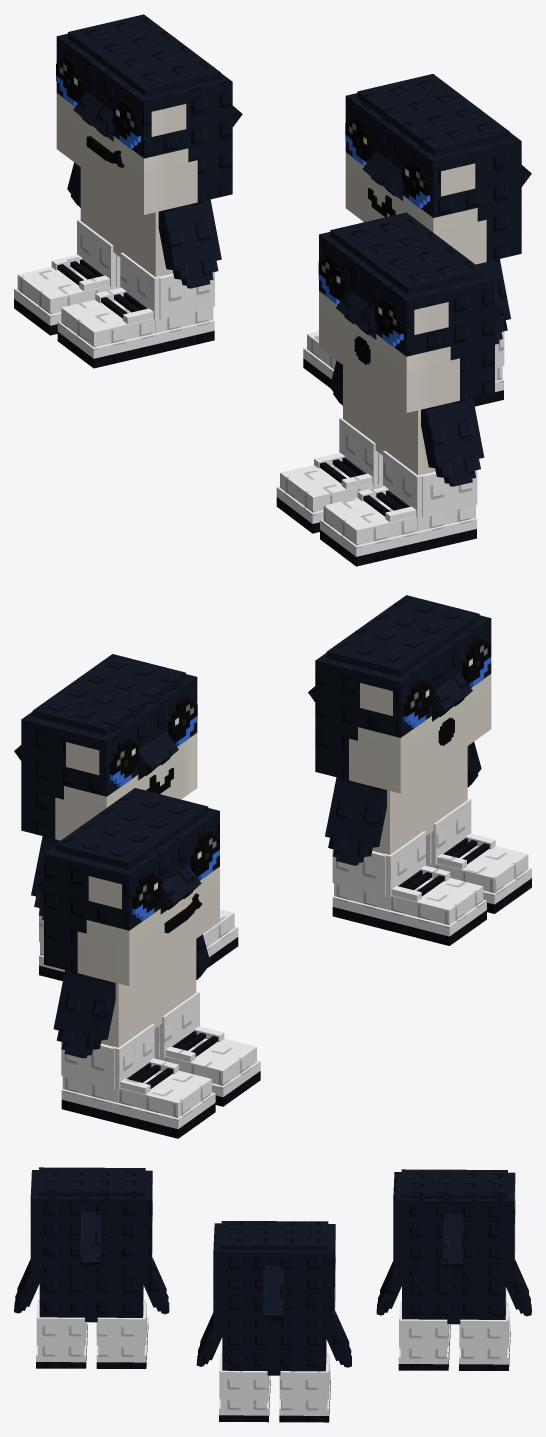
Rendered from los_orcalitos_steal_a_brainrot.glb.
The picture shows the model from 3 angles, top to bottom: view 1: azimuth 30°, elevation 25°; view 2: azimuth 150°, elevation 25°; view 3: azimuth 270°, elevation 25°; orthographic projection. The views are drawn at different scales.
Parts seen in each view (by area): view 1: Object_2; view 2: Object_2; view 3: Object_2.
Boxes of the visible parts, x1=… form: Object_2: x1=14, y1=14, x2=531, y2=566; Object_2: x1=14, y1=595, x2=531, y2=1138; Object_2: x1=14, y1=1167, x2=531, y2=1422.
Bounding box in the file's own units: 3.88 × 2.87 × 7.53.
Materials: 1 (1 with a texture image).
